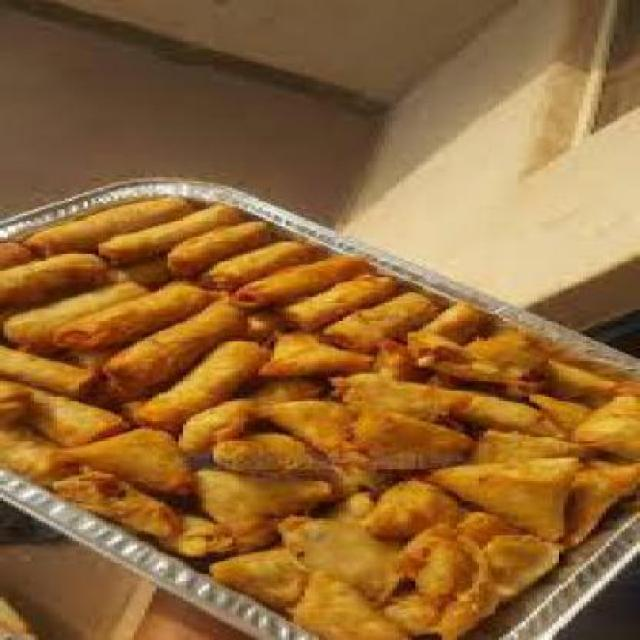spring rolls: (3, 183, 488, 435)
